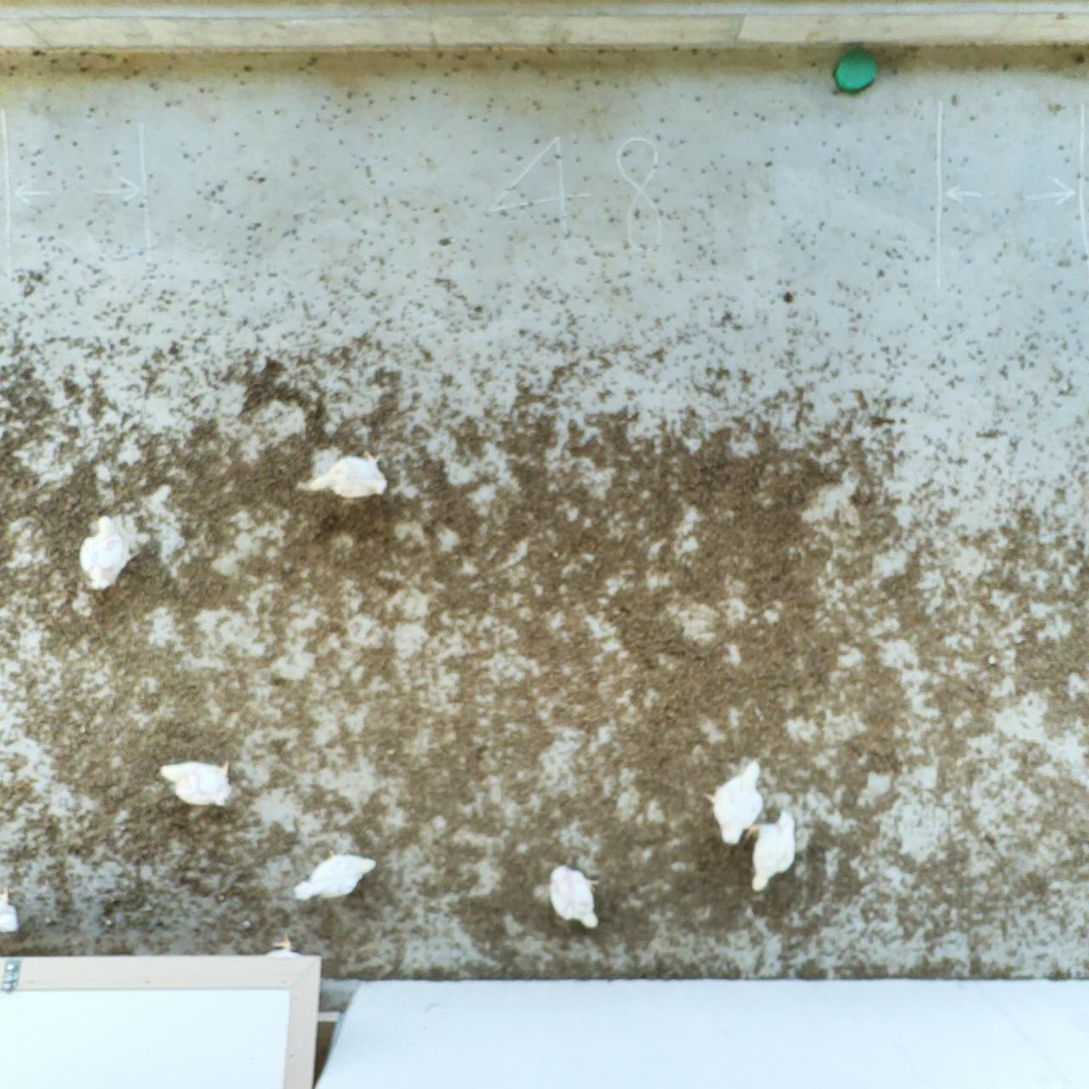chicken: (293, 847, 378, 904), (152, 756, 235, 810), (310, 448, 391, 503), (546, 862, 604, 933), (265, 932, 302, 960)
